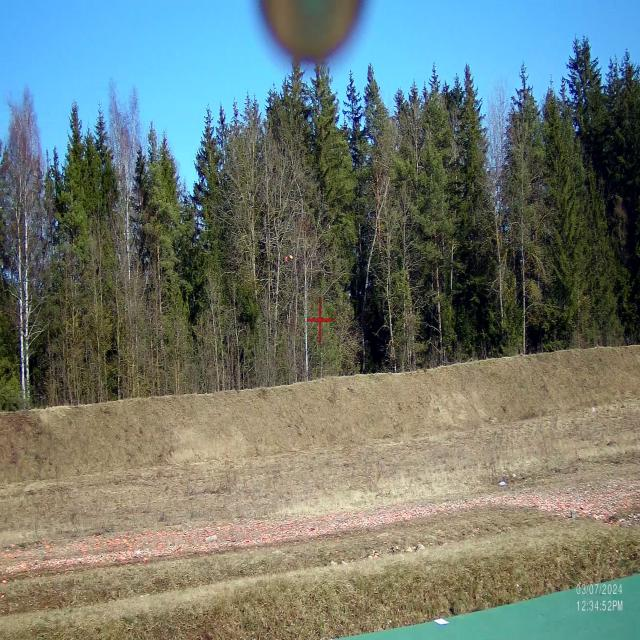broken: (279, 245, 298, 269)
